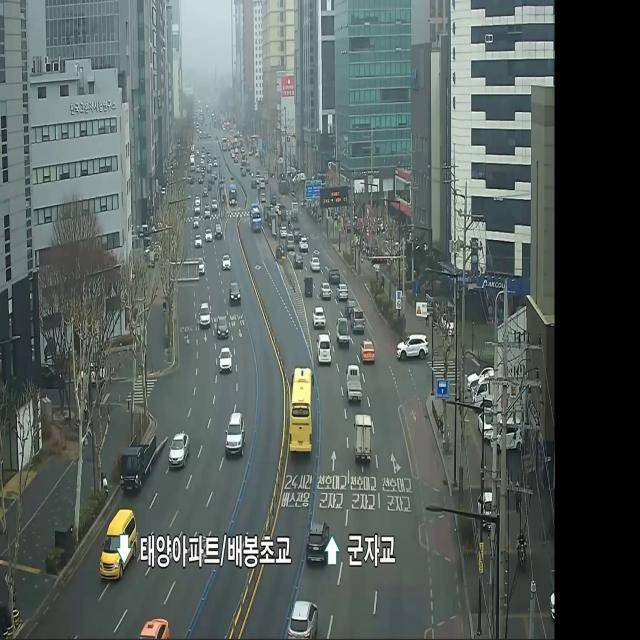car: (289, 368, 312, 458)
motorcycle: (100, 508, 136, 580), (289, 599, 318, 640), (305, 520, 328, 562), (397, 331, 428, 360), (227, 411, 244, 458), (169, 431, 188, 473), (138, 616, 171, 640), (318, 334, 330, 366), (359, 340, 373, 364), (219, 348, 232, 373), (229, 282, 241, 307), (217, 316, 229, 339), (352, 309, 364, 332), (315, 304, 325, 329), (336, 282, 347, 300), (293, 252, 303, 270), (202, 302, 208, 327), (310, 255, 320, 270), (299, 236, 308, 252), (329, 266, 339, 280), (322, 284, 331, 299), (198, 257, 206, 272), (223, 257, 230, 270)
truck: (120, 442, 154, 485), (354, 418, 372, 466), (345, 364, 361, 404), (335, 319, 349, 350), (250, 202, 262, 233), (304, 276, 314, 300)
